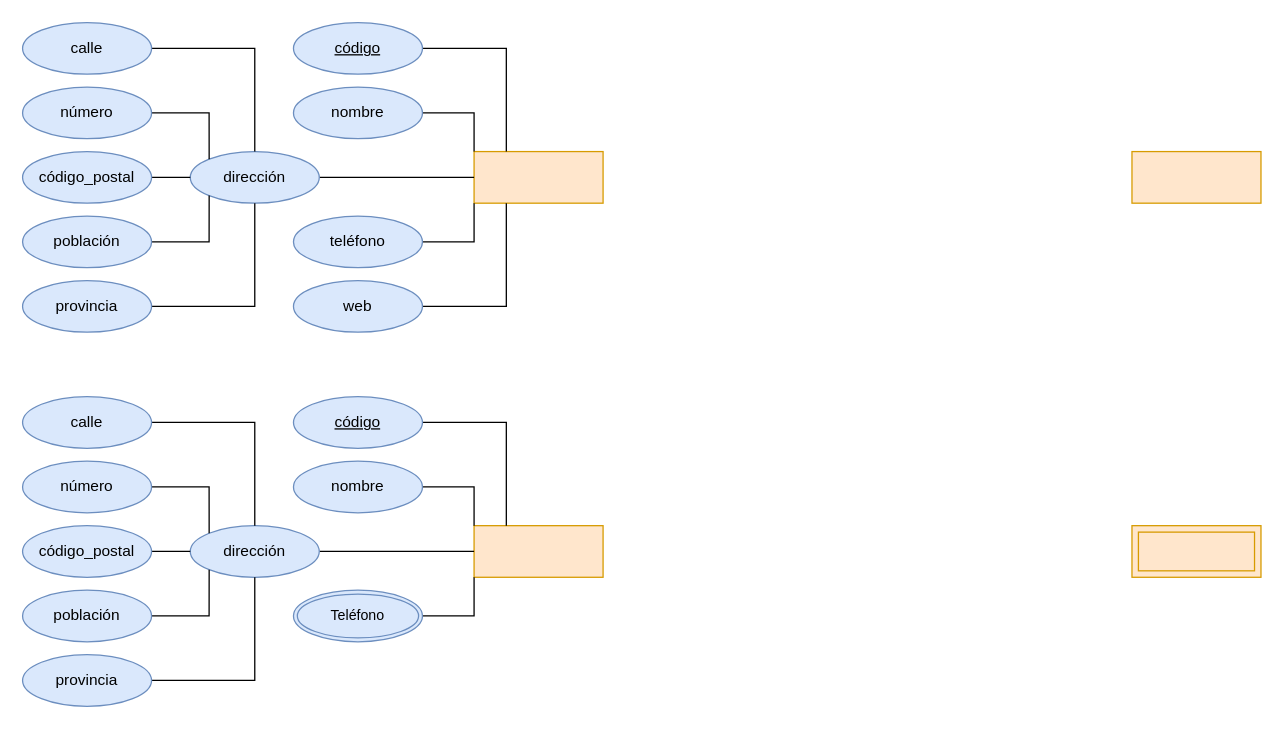
This 1284x729 diagram has some shape labels left out. The centre of each missing label's shape, as x and y in pixels:
"Clientes" goes at point 538,550.
"Productos" goes at point 1196,176.
"Proveedores" goes at point 538,176.
"Ventas" goes at point 1196,550.
